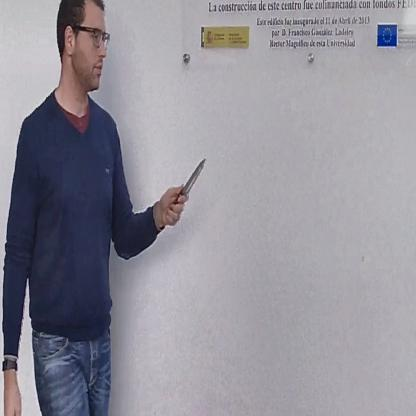knife: (163, 149, 209, 226)
